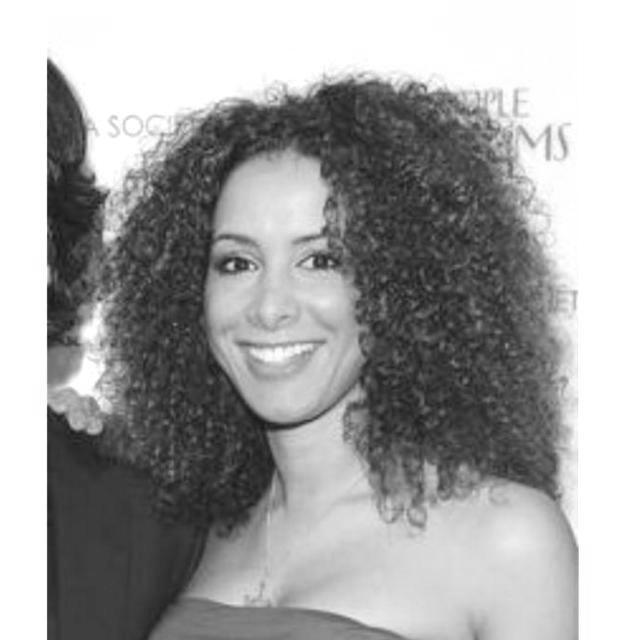real: (188, 138, 384, 428)
